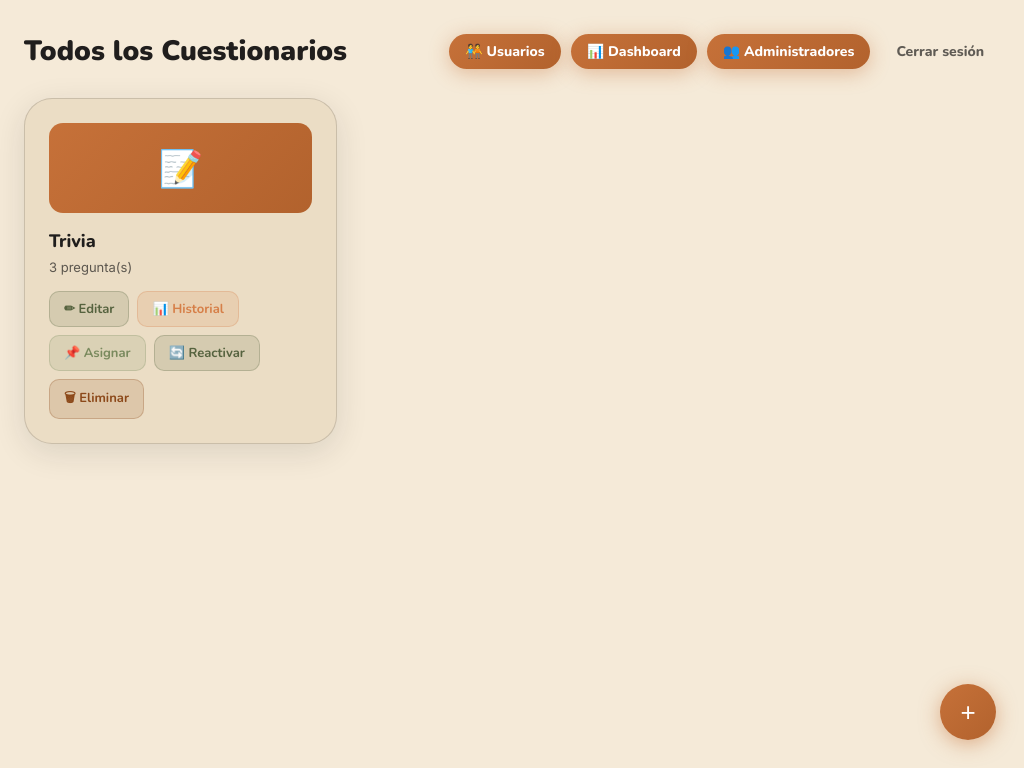
Test: QuizListView — Asignar popup › shows the store filter for a superadmin
The width and height of the screenshot is (1024, 768).
What coordinates should you click on to do the following:
click the button with class "btn-assign"
I would click on:
 (97, 353)
Its box is [49,335,146,371].
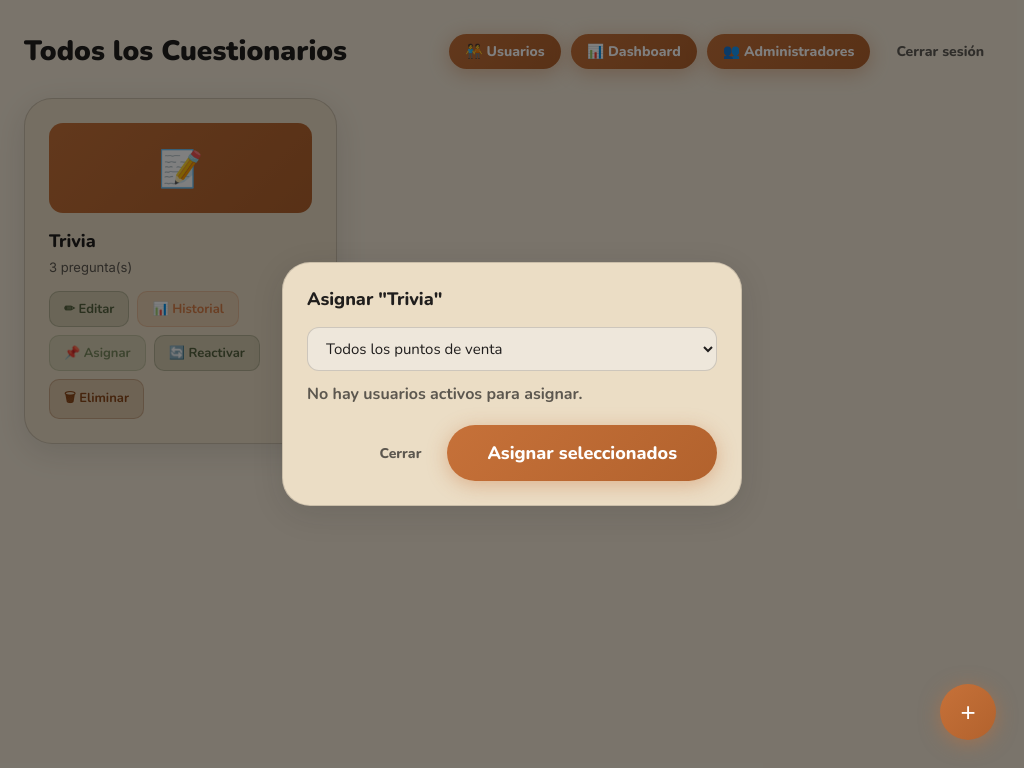
Expected: the dropdown with id "assign-store-select" is shown, [307,327,717,371]
